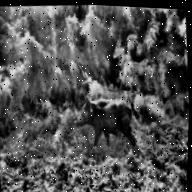boar: (72, 92, 139, 152)
